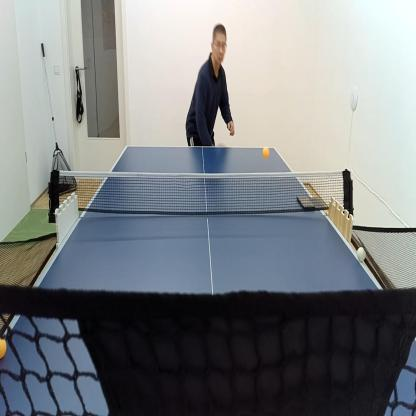Ball: (0, 336, 7, 358), (358, 247, 366, 261), (264, 147, 269, 158)
